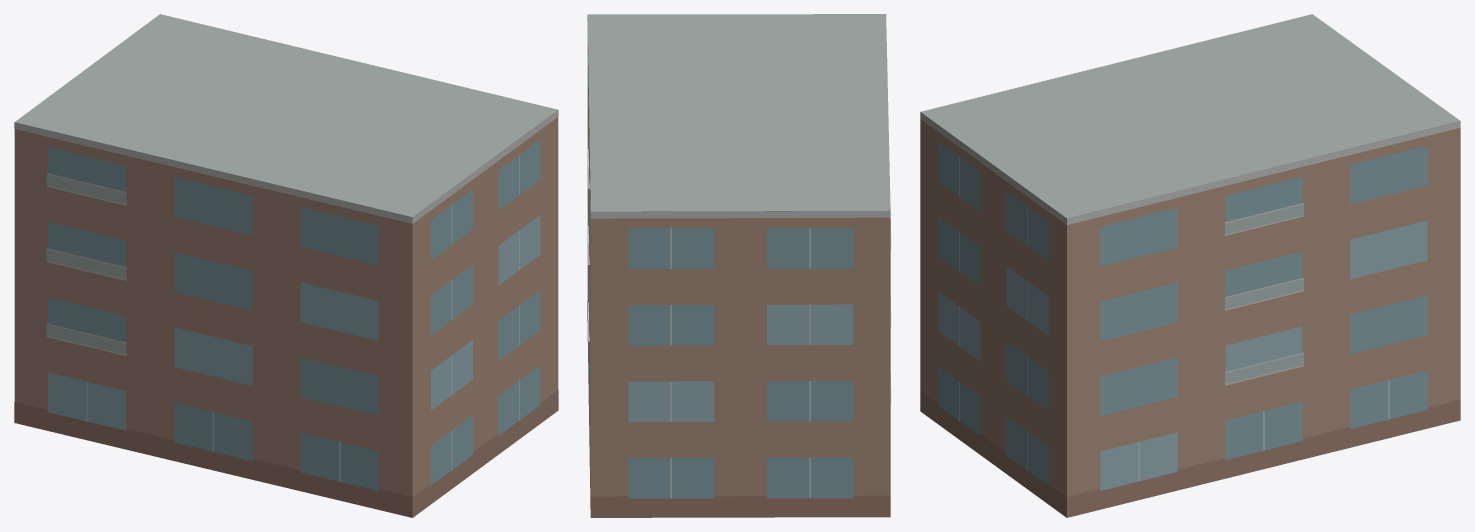
The model's file is survey-upis-32705831.glb.
3 views of the same model, side by side, from view 1: azimuth 30°, elevation 25°; view 2: azimuth 150°, elevation 25°; view 3: azimuth 270°, elevation 25° (orthographic). The views are drawn at different scales.
Parts seen in each view (by area): view 1: survey-upis-32705831.tmp; view 2: survey-upis-32705831.tmp; view 3: survey-upis-32705831.tmp.
Part boxes in pixels (x1,y1,x2,y2): survey-upis-32705831.tmp: (14, 14, 558, 517); survey-upis-32705831.tmp: (587, 14, 891, 517); survey-upis-32705831.tmp: (920, 14, 1460, 517).
Size of the model in its own units: 15.75 by 10.75 by 17.59.
